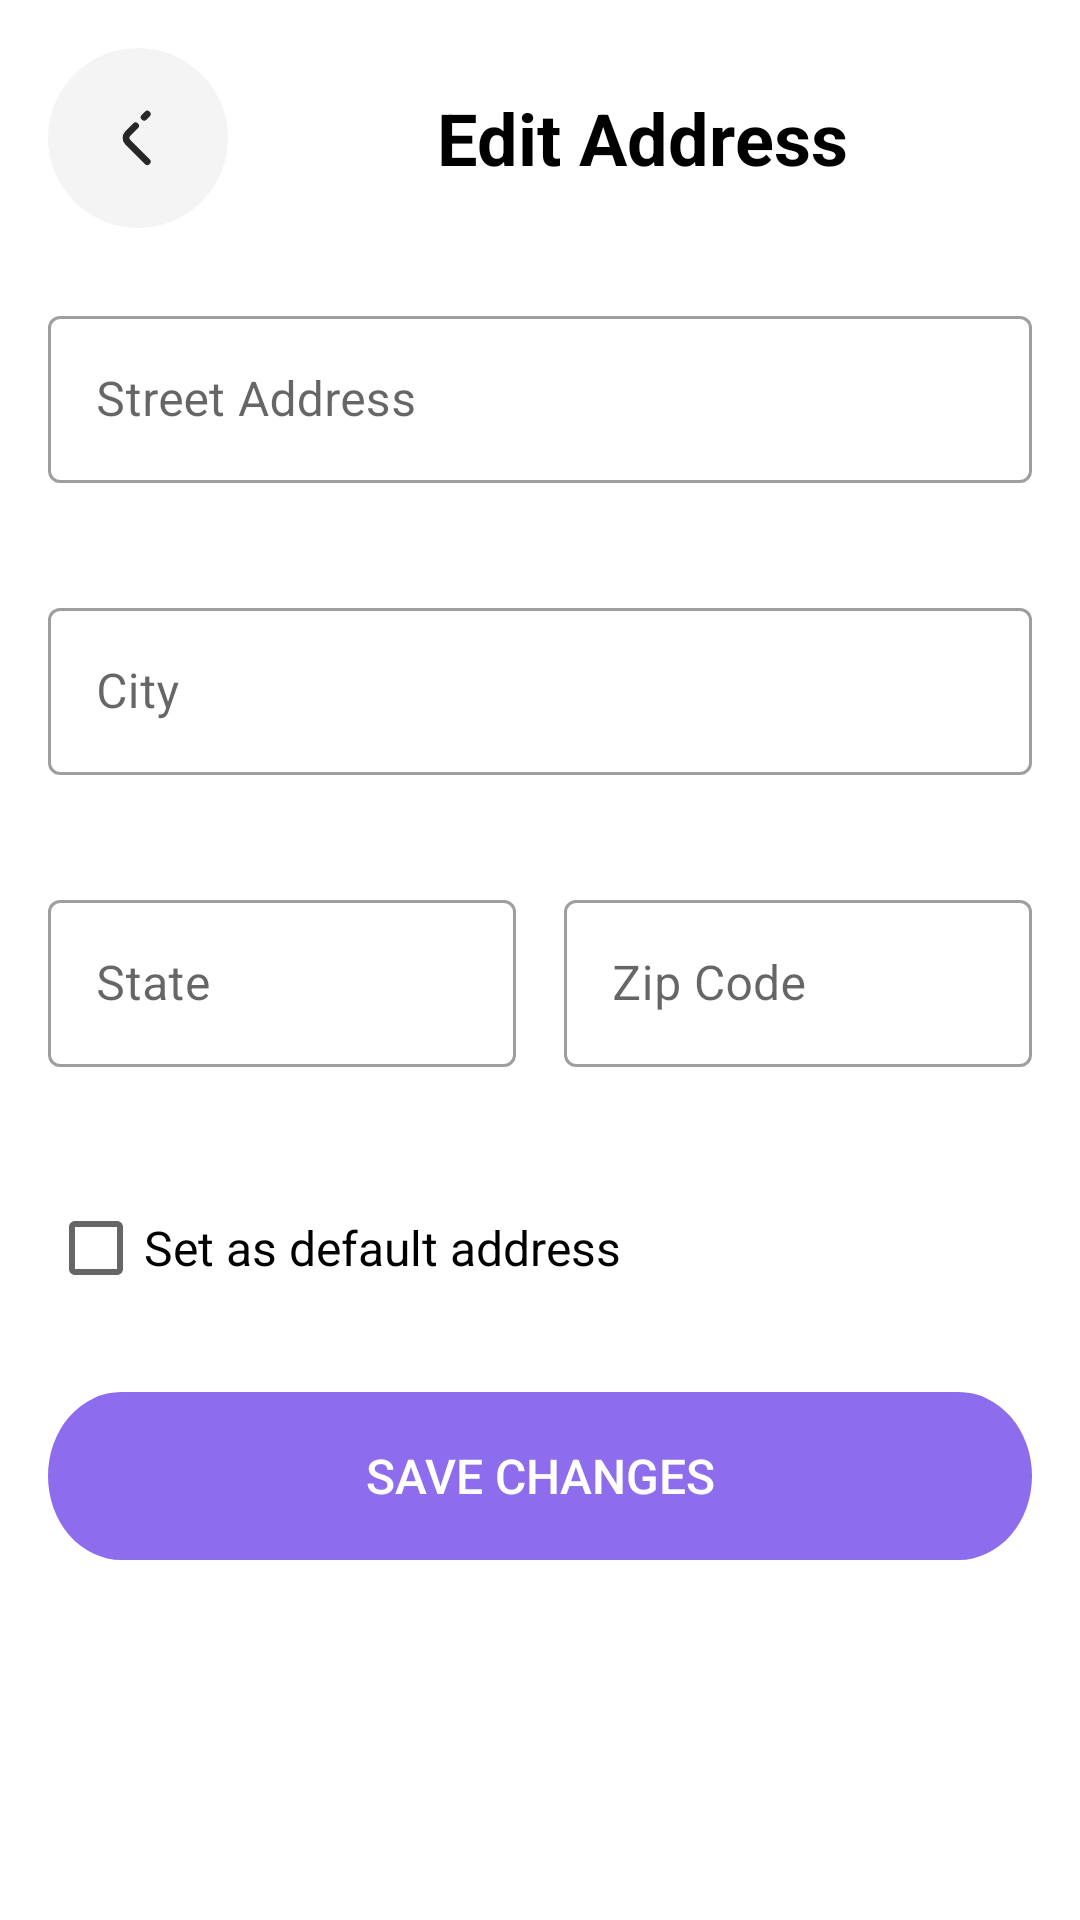

Screen size 1080px×1920px. Icon name, then its box in pixels as (x1, y1, x2, y2):
arrow back: (48, 48, 228, 228)
